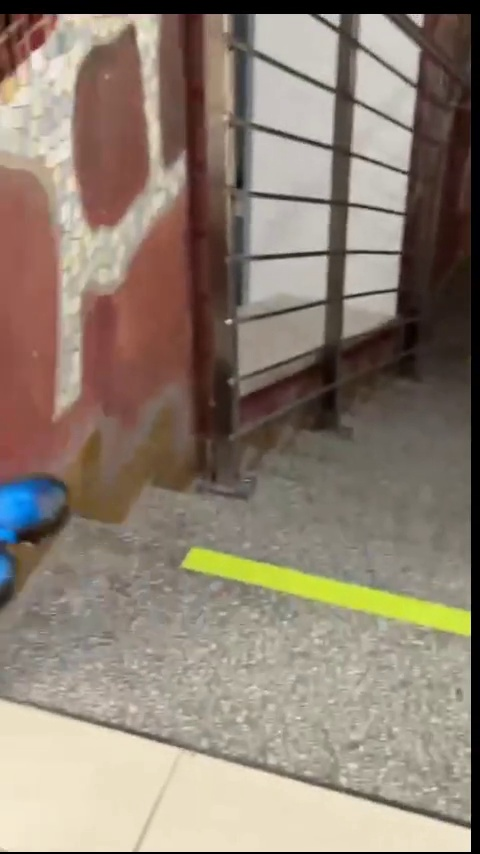drone: (0, 470, 68, 622)
